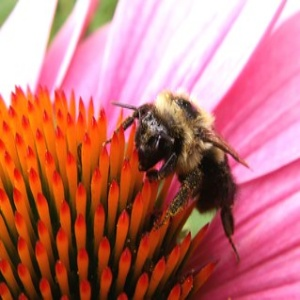bee: (127, 91, 246, 259)
